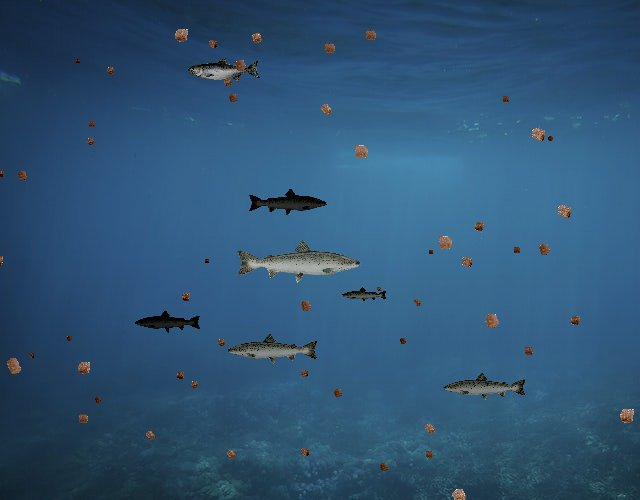Fish: (234, 238, 363, 284), (227, 333, 321, 366), (442, 371, 528, 402), (247, 187, 328, 216), (189, 57, 262, 83), (134, 309, 202, 334), (341, 286, 388, 303)
Pellet: (612, 400, 640, 430), (167, 21, 195, 49), (314, 97, 338, 121), (228, 54, 252, 78), (245, 26, 268, 49), (12, 165, 33, 186), (218, 73, 237, 92), (203, 35, 222, 54), (82, 134, 98, 150), (544, 132, 557, 145), (25, 350, 37, 362)
